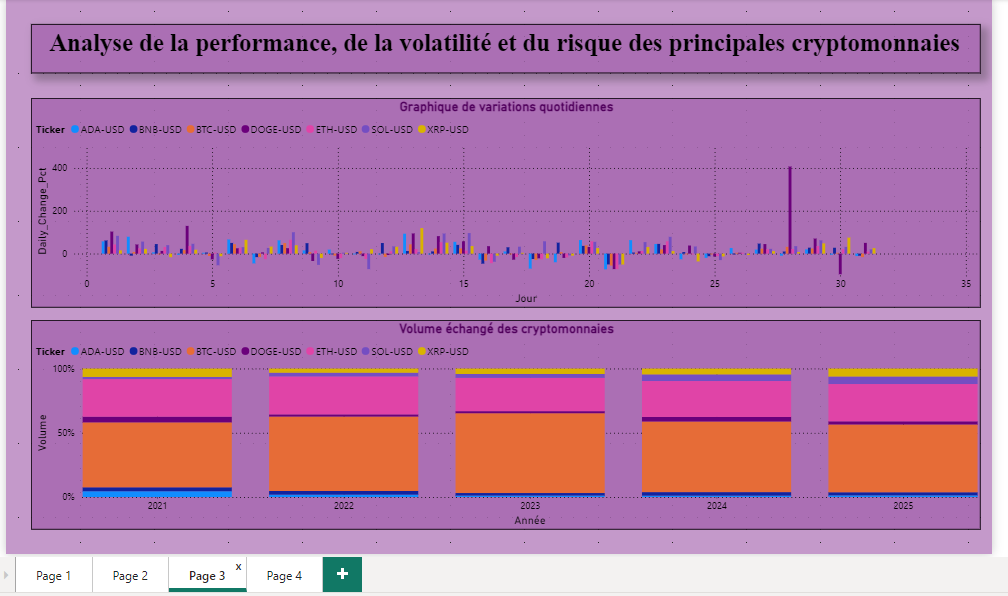

The dashboard page shown, as its layout file describes it:
{"tool":"powerbi","page":{"name":"  Page 3","canvas":[1280,720],"ordinal":2},"visuals":[{"type":"textbox","box":[32,32,1232,64],"z":0},{"type":"clusteredColumnChart","title":"Graphique de variations quotidiennes ","fields":{"Category":["cryptos_yahoo_enriched_2021_2025.Date.Variation.Hiérarchie de dates.Jour"],"Y":["Sum(cryptos_yahoo_enriched_2021_2025.Daily_Change_Pct)"],"Series":["cryptos_yahoo_enriched_2021_2025.Ticker"]},"box":[32,128,1232,272],"z":1},{"type":"hundredPercentStackedColumnChart","title":"Volume échangé des cryptomonnaies","fields":{"Category":["cryptos_yahoo_enriched_2021_2025.Date.Variation.Hiérarchie de dates.Année","cryptos_yahoo_enriched_2021_2025.Date.Variation.Hiérarchie de dates.Trimestre","cryptos_yahoo_enriched_2021_2025.Date.Variation.Hiérarchie de dates.Mois","cryptos_yahoo_enriched_2021_2025.Date.Variation.Hiérarchie de dates.Jour"],"Y":["Sum(cryptos_yahoo_enriched_2021_2025.Volume)"],"Series":["cryptos_yahoo_enriched_2021_2025.Ticker"]},"box":[32,416,1232,272],"z":2}]}

Visuals, with their boxes on the page's 1280x720 design canvas (x1, y1, x2, y2). These are canvas units, not pixel positions in the 1008x596 screenshot, which may show the page scaled, cropped or inside an application window:
textbox: <bbox>32, 32, 1264, 96</bbox>
"Graphique de variations quotidiennes " clusteredColumnChart: <bbox>32, 128, 1264, 400</bbox>
"Volume échangé des cryptomonnaies" hundredPercentStackedColumnChart: <bbox>32, 416, 1264, 688</bbox>
